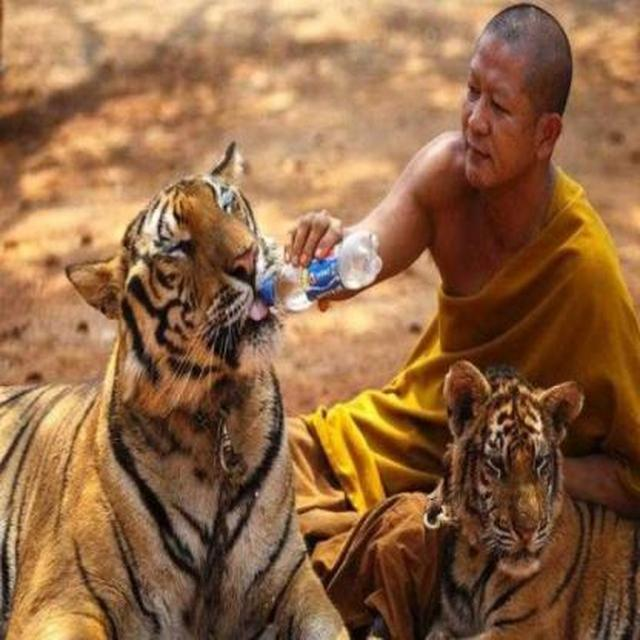tiger: (0, 139, 366, 639), (409, 357, 639, 639)
